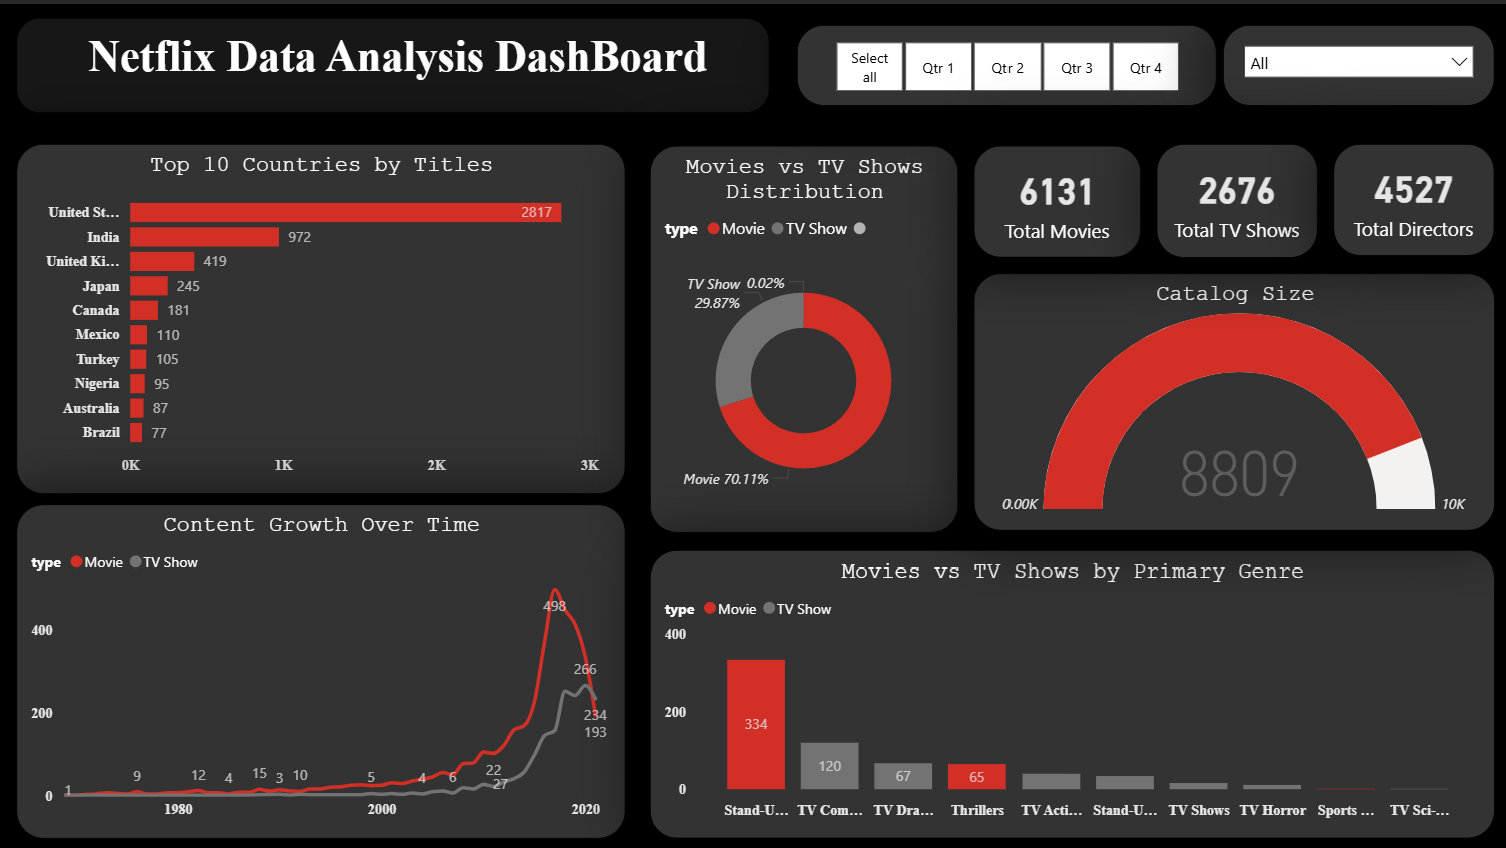

This screenshot's page, from the dashboard's own definition file:
{"tool":"powerbi","page":{"name":"Page 1","canvas":[1280,720],"ordinal":0},"visuals":[{"type":"textbox","box":[14.8,11.5,639.3,80.3],"z":0},{"type":"barChart","title":"Top 10 Countries by Titles","fields":{"Category":["netflix_titles.country"],"Y":["Count(netflix_titles.show_id)"]},"box":[14.9,118.9,517.3,297.3],"z":1000},{"type":"lineChart","title":"Content Growth Over Time","fields":{"Y":["Count(netflix_titles.show_id)"],"Series":["netflix_titles.type"],"Category":["netflix_titles.release_year"]},"box":[15.1,425.8,517.2,282.8],"z":2000},{"type":"donutChart","title":"Movies vs TV Shows Distribution","fields":{"Y":["Count(netflix_titles.show_id)"],"Category":["netflix_titles.type"]},"box":[552.9,120.4,261.6,328.5],"z":3000},{"type":"columnChart","title":"Movies vs TV Shows by Primary Genre","fields":{"Category":["netflix_titles.listed_in.1"],"Y":["CountNonNull(netflix_titles.title)"],"Series":["netflix_titles.type"]},"box":[552.9,463.8,716.4,243.8],"z":3001},{"type":"slicer","fields":{"Values":["netflix_titles.date_added.Variation.Date Hierarchy.Quarter"]},"box":[677.8,17.8,355.2,68.4],"z":3002},{"type":"slicer","fields":{"Values":["netflix_titles.date_added.Variation.Date Hierarchy.Year"]},"box":[1039,17.8,230.4,68.4],"z":3003},{"type":"gauge","title":"Catalog Size","fields":{"Y":["CountNonNull(netflix_titles.show_id)"],"MaxValue":["netflix_titles.TargetValue"]},"box":[827.9,228.9,441.5,218.5],"z":3004},{"type":"card","fields":{"Values":["netflix_titles.Total Movies"]},"box":[827.9,120.4,141.2,95.1],"z":3005},{"type":"card","fields":{"Values":["netflix_titles.Total TV Shows"]},"box":[982.5,118.9,136.7,96.6],"z":3006},{"type":"card","fields":{"Values":["netflix_titles.Total Directors"]},"box":[1132.6,118.9,136.7,95.1],"z":3007}]}

Visuals, with their boxes in screenshot pixels (x1, y1, x2, y2), scaled from the page's 1280x720 canvas onto the 1506x848 screenshot:
textbox: locate(17, 14, 770, 108)
"Top 10 Countries by Titles" barChart: locate(18, 140, 626, 490)
"Content Growth Over Time" lineChart: locate(18, 501, 626, 835)
"Movies vs TV Shows Distribution" donutChart: locate(651, 142, 958, 529)
"Movies vs TV Shows by Primary Genre" columnChart: locate(651, 546, 1493, 833)
slicer - netflix_titles.date_added.Variation.Date Hierarchy.Quarter: locate(797, 21, 1215, 102)
slicer - netflix_titles.date_added.Variation.Date Hierarchy.Year: locate(1222, 21, 1494, 102)
"Catalog Size" gauge: locate(974, 270, 1494, 527)
card - netflix_titles.Total Movies: locate(974, 142, 1140, 254)
card - netflix_titles.Total TV Shows: locate(1156, 140, 1317, 254)
card - netflix_titles.Total Directors: locate(1333, 140, 1493, 252)
